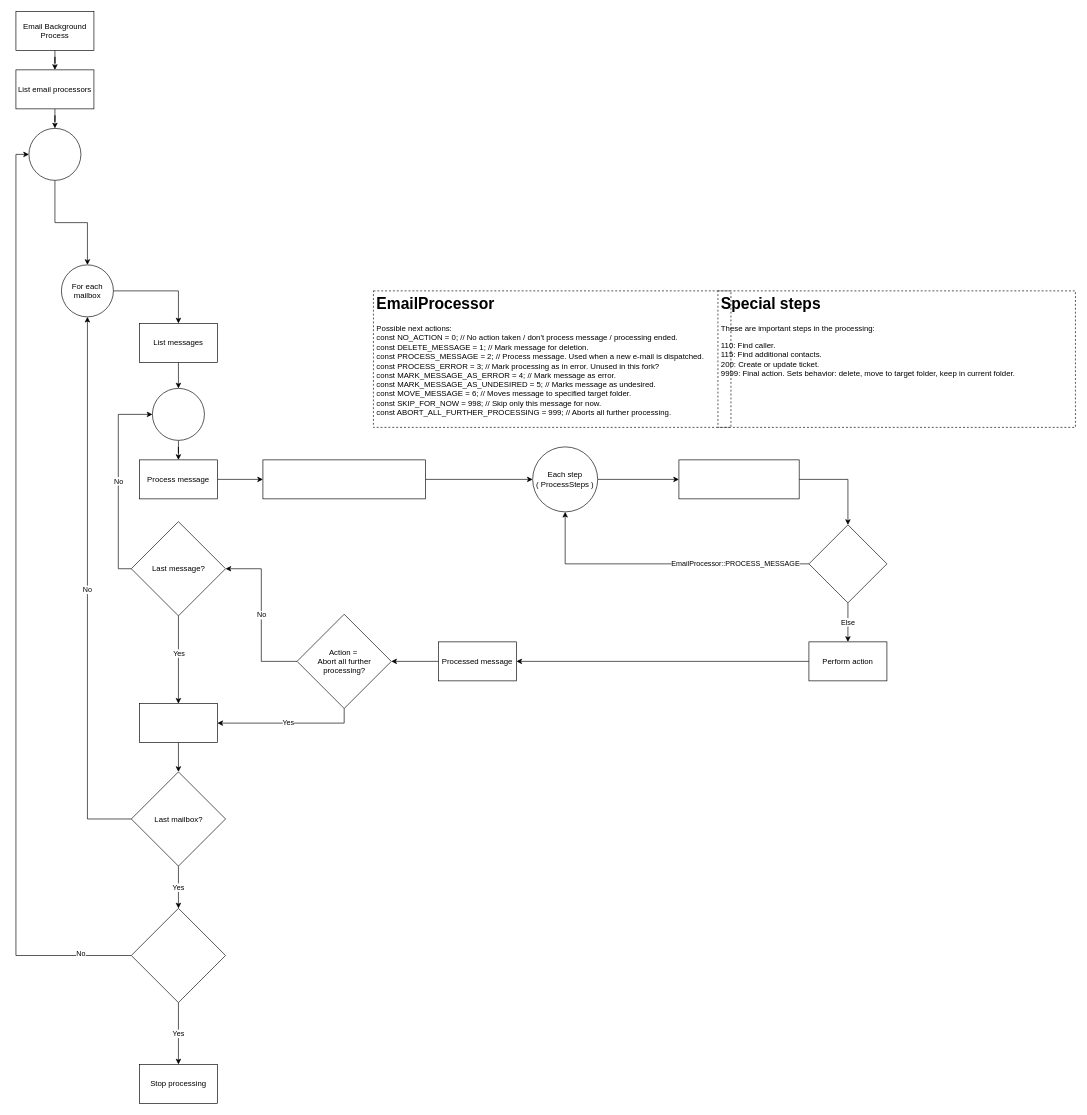
This 1087x1115 diagram has some shape labels left out. Each missing label, with the centre of its shape:
"Execute step" belongs at (738,479).
"For each message" belongs at (178,414).
"For each processor" belongs at (54,154).
"Last processor?" belongs at (178,955).
"Next action" belongs at (847,563).
"Set initial action: EmailProcessor::PROCESS_MESSAGE" belongs at (343,479).
"Stop processing mailbox" belongs at (178,723).
